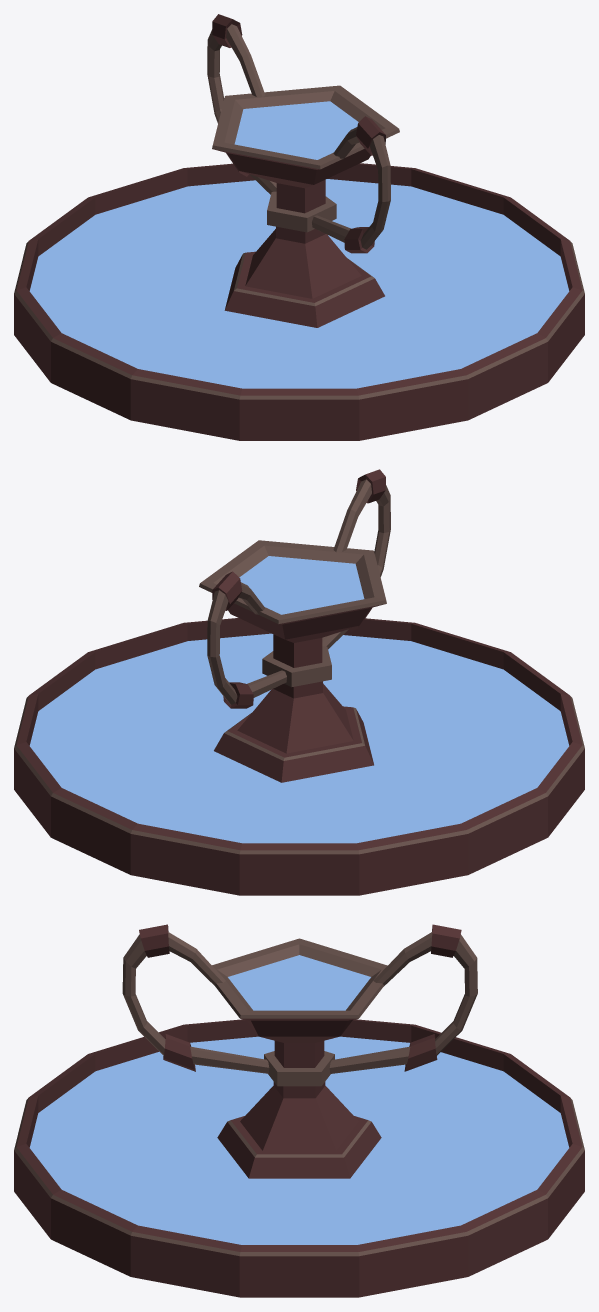
The model's file is Fountain_02.glb.
3 renders of one model, top to bottom at view 1: azimuth 30°, elevation 25°; view 2: azimuth 150°, elevation 25°; view 3: azimuth 270°, elevation 25°, orthographic.
Parts seen in each view (by area): view 1: Fountain_02; view 2: Fountain_02; view 3: Fountain_02.
Part boxes in pixels (<box>): Fountain_02: <box>14,14,584,440</box>; Fountain_02: <box>14,469,584,895</box>; Fountain_02: <box>14,924,584,1297</box>.
Size of what is drawn, in the model's own units: 3.85 by 1.91 by 3.88.
Materials: 1 (1 with a texture image).
